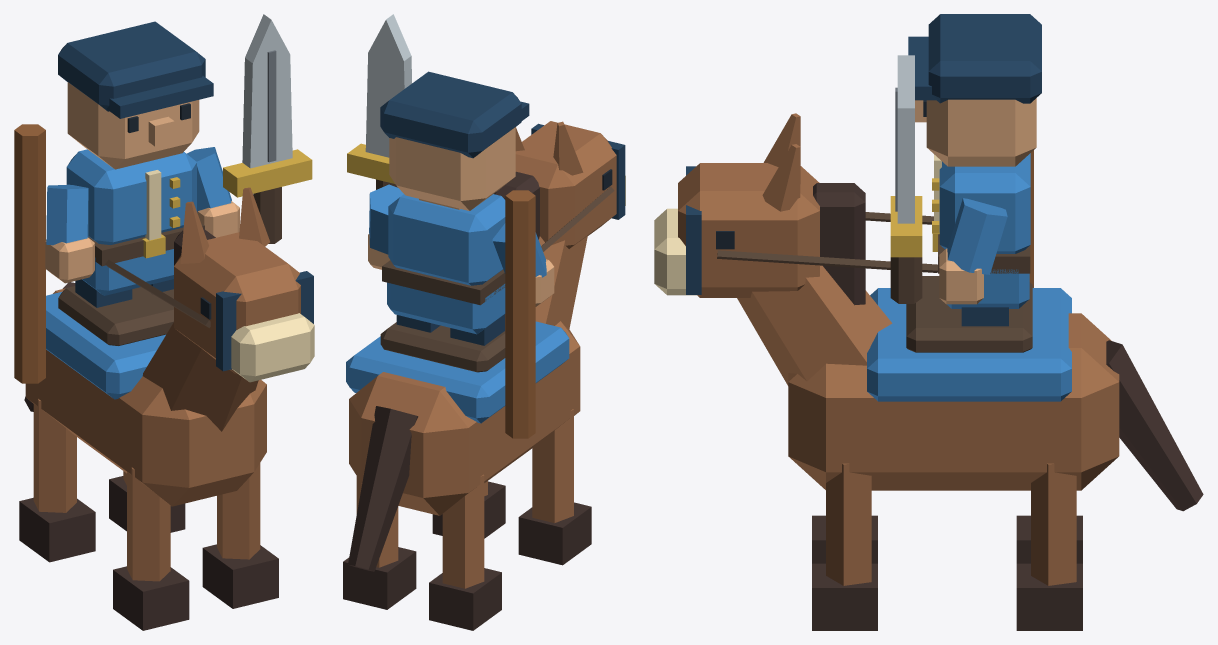
Rendered from u_cavalry.glb.
The picture shows the model from 3 angles, left to right: view 1: azimuth 30°, elevation 25°; view 2: azimuth 150°, elevation 25°; view 3: azimuth 270°, elevation 25°; orthographic projection. The views are drawn at different scales.
Parts seen in each view (by area): view 1: u_cavalry; view 2: u_cavalry; view 3: u_cavalry.
Part boxes in pixels (x1=…): u_cavalry: x1=14, y1=14, x2=314, y2=630; u_cavalry: x1=343, y1=14, x2=625, y2=630; u_cavalry: x1=654, y1=14, x2=1203, y2=630.
Size of the model in its own units: 0.1895 by 0.415 by 0.3486.
